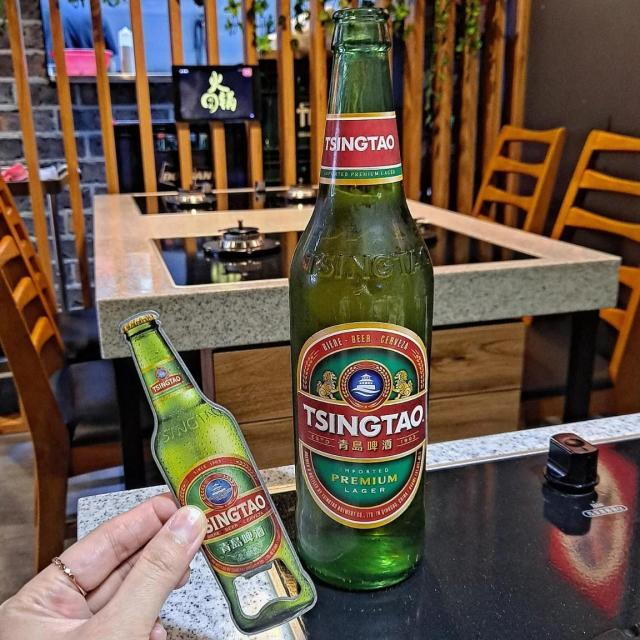beer-bottle: (268, 4, 448, 599)
